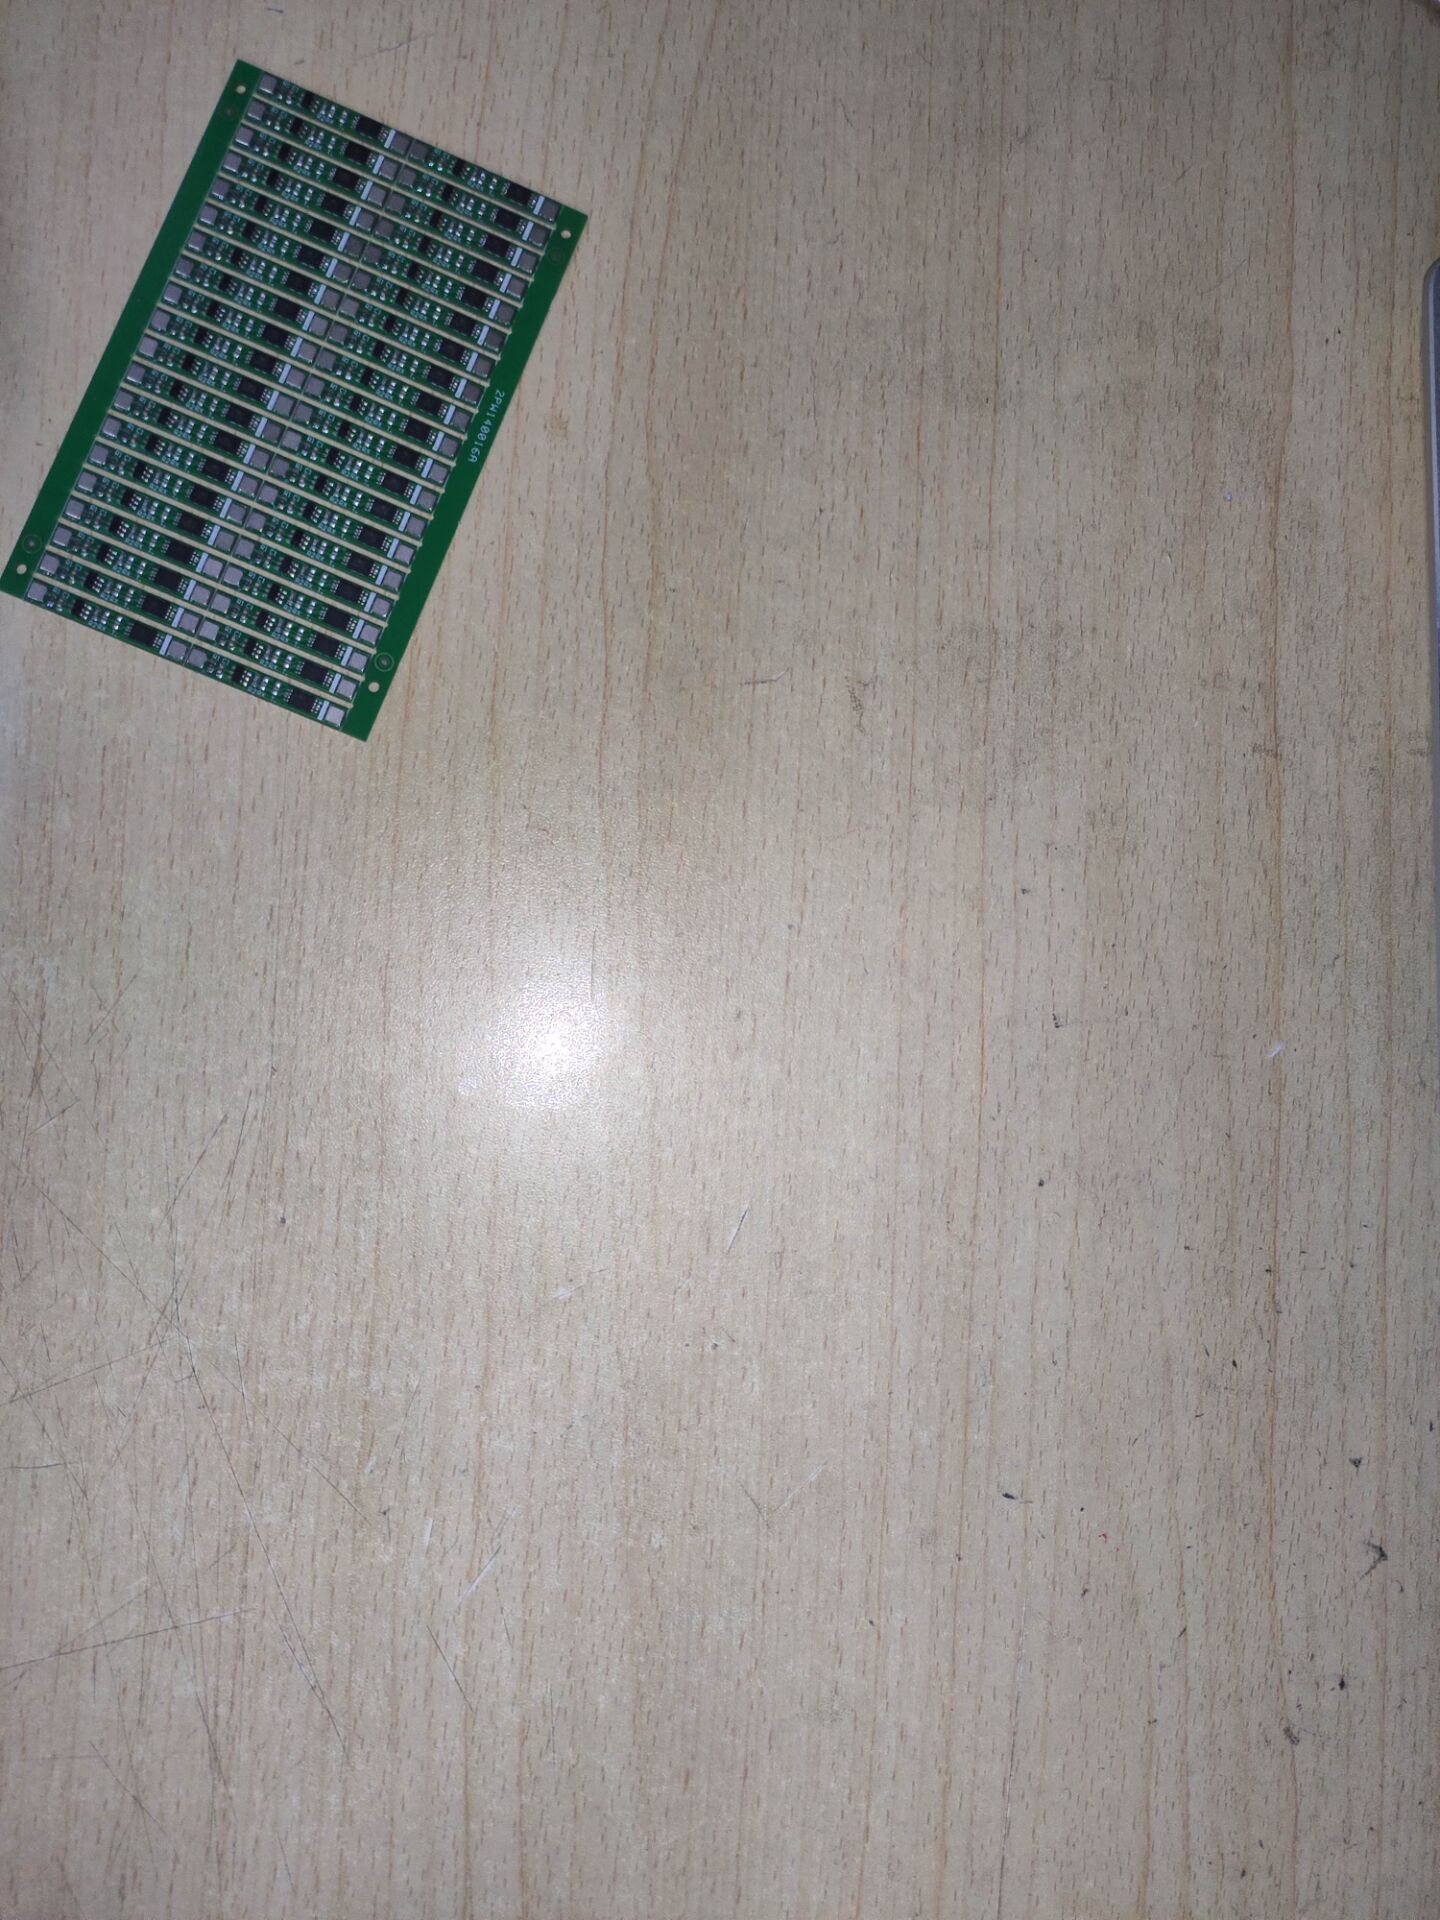point: (536, 199, 560, 221), (482, 330, 506, 350), (383, 193, 408, 213), (149, 309, 172, 329), (343, 237, 366, 258), (428, 463, 449, 486), (197, 205, 221, 225), (392, 133, 411, 157), (257, 73, 279, 94), (126, 362, 146, 383), (397, 166, 418, 188), (306, 375, 326, 396), (324, 705, 345, 726), (233, 127, 255, 146), (201, 558, 224, 577), (394, 544, 416, 564), (348, 651, 370, 672), (336, 678, 356, 700), (409, 141, 430, 161), (379, 160, 401, 180), (361, 245, 383, 265), (350, 270, 371, 290), (322, 292, 344, 312), (308, 316, 329, 335), (286, 369, 306, 390), (282, 431, 302, 450), (249, 449, 271, 469), (529, 226, 549, 246), (506, 278, 526, 300), (461, 383, 482, 402), (439, 440, 460, 459), (332, 265, 354, 282), (315, 352, 338, 371), (272, 396, 295, 414), (214, 533, 237, 550), (175, 257, 195, 277), (269, 458, 289, 477), (258, 486, 279, 505), (200, 621, 219, 641), (102, 418, 121, 437), (77, 471, 97, 491), (65, 499, 85, 519), (53, 526, 72, 546), (361, 625, 381, 644), (246, 101, 268, 120), (210, 180, 231, 198), (187, 232, 208, 249), (114, 391, 134, 410), (355, 213, 377, 232), (340, 298, 361, 316), (226, 506, 247, 525), (223, 567, 243, 585), (211, 594, 231, 612), (179, 614, 199, 632), (40, 554, 58, 574), (27, 581, 46, 602), (518, 254, 539, 272), (472, 359, 493, 376), (382, 571, 404, 590), (237, 477, 260, 495), (233, 539, 255, 557), (222, 153, 242, 171), (163, 284, 183, 303), (139, 337, 159, 356), (367, 188, 387, 206), (375, 219, 395, 238), (494, 305, 515, 324), (419, 492, 437, 511), (406, 518, 425, 537), (297, 344, 318, 362), (328, 326, 347, 344), (192, 586, 210, 605), (188, 648, 205, 667), (372, 597, 391, 616), (295, 404, 312, 424), (90, 446, 108, 465), (451, 414, 471, 431), (264, 424, 282, 442), (246, 514, 264, 530), (168, 643, 185, 660)
